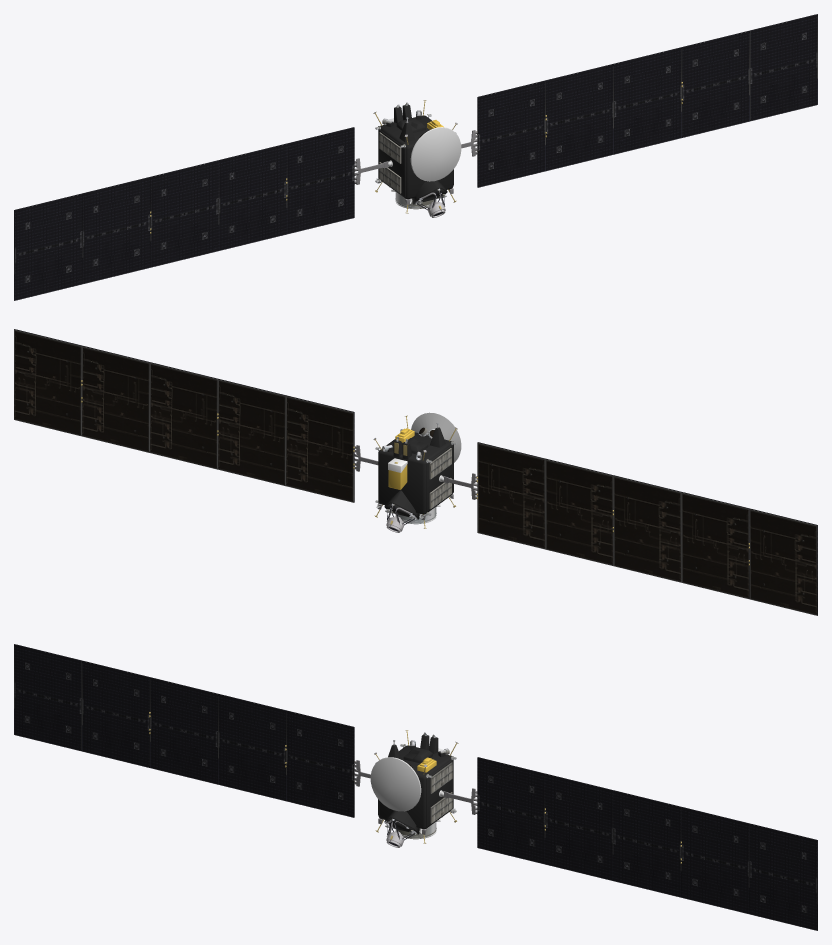
File: dawn.glb
The picture shows the model from 3 angles, top to bottom: view 1: azimuth 30°, elevation 25°; view 2: azimuth 150°, elevation 25°; view 3: azimuth 330°, elevation 25°; orthographic projection.
Visible parts, largest first — view 1: solar_panels, foil_silver_2, black_krinkle, tex_01, BUS; view 2: solar_panels, BUS, tex_01, black_krinkle, foil_silver_2, foil_gold; view 3: solar_panels, foil_silver_2, black_krinkle, tex_01, BUS.
Boxes of the visible parts, x1=… form: solar_panels: x1=14, y1=14, x2=817, y2=300; foil_silver_2: x1=410, y1=127, x2=461, y2=181; black_krinkle: x1=378, y1=104, x2=453, y2=204; tex_01: x1=373, y1=100, x2=457, y2=217; BUS: x1=379, y1=115, x2=453, y2=199; solar_panels: x1=14, y1=329, x2=817, y2=615; BUS: x1=378, y1=432, x2=452, y2=514; tex_01: x1=373, y1=415, x2=457, y2=532; black_krinkle: x1=384, y1=427, x2=453, y2=519; foil_silver_2: x1=411, y1=412, x2=461, y2=462; foil_gold: x1=388, y1=428, x2=414, y2=489; solar_panels: x1=14, y1=644, x2=817, y2=930; foil_silver_2: x1=370, y1=757, x2=421, y2=811; black_krinkle: x1=378, y1=734, x2=453, y2=834; tex_01: x1=374, y1=730, x2=458, y2=847; BUS: x1=378, y1=745, x2=452, y2=829.
Bounding box in the file's own units: 19.7 × 2.2 × 2.22.
7 materials, 2 textured.
